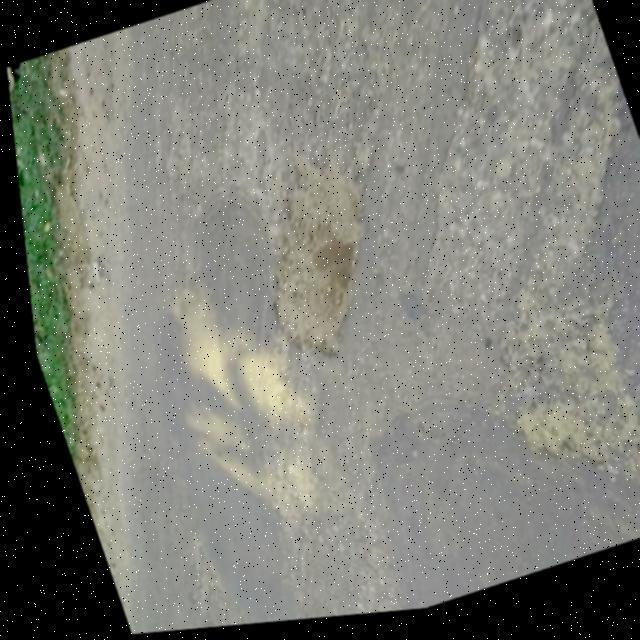pothole: (205, 120, 409, 388)
